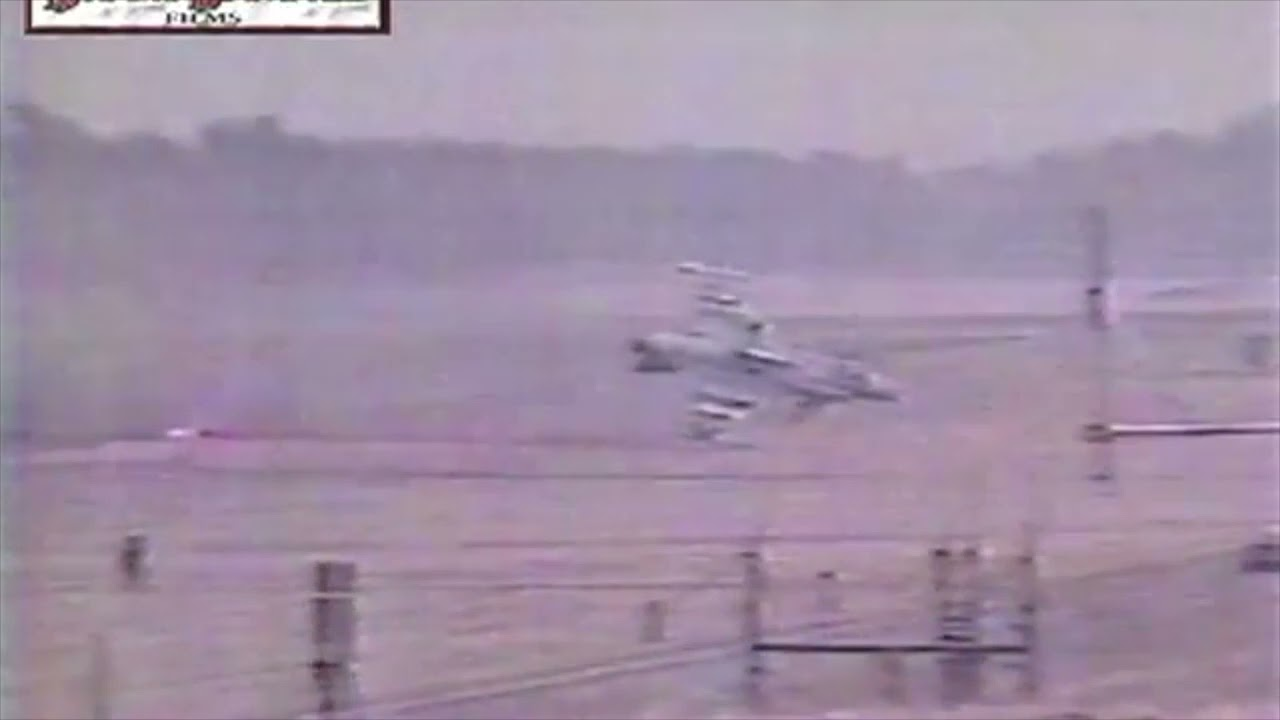JAS39: (618, 258, 909, 450)
